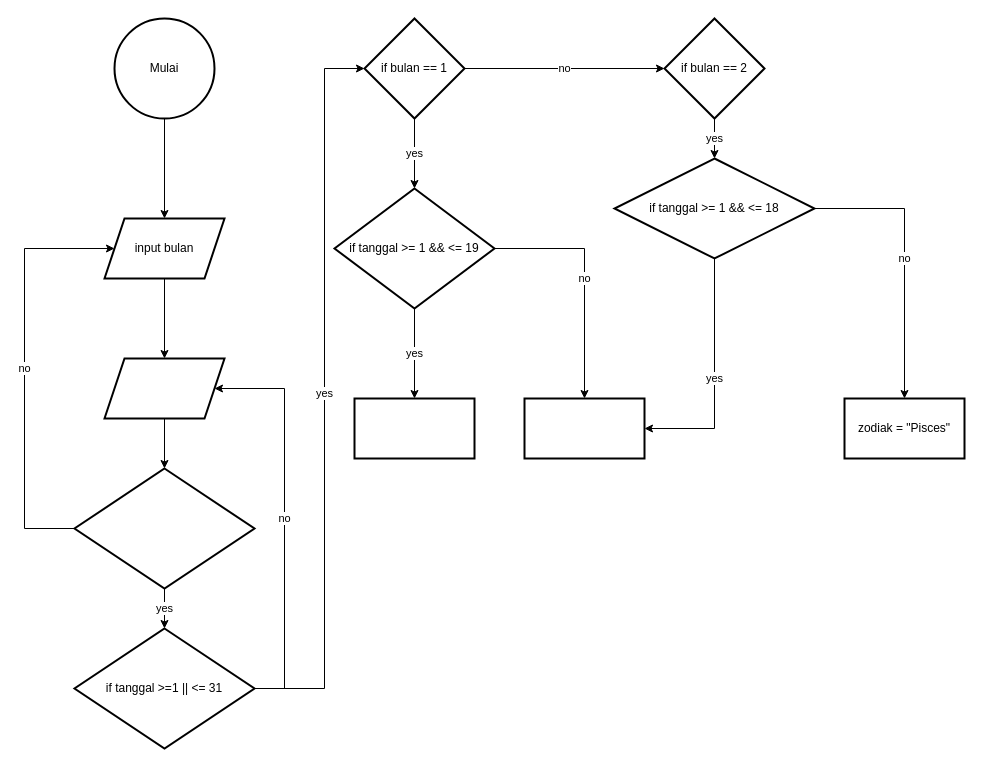
The diagram is 983 pixels wide and 766 high, and some of its shapes have lost their labels. The box of each missing label's shape, as (x1, y1, x2, y2) in pixels:
if bulan >=1 || bulan <= 12: (73, 467, 255, 589)
input tanggal: (103, 357, 225, 419)
zodiak = "Aquarius: (523, 397, 645, 459)
zodiak = "Capricorn": (353, 397, 475, 459)
